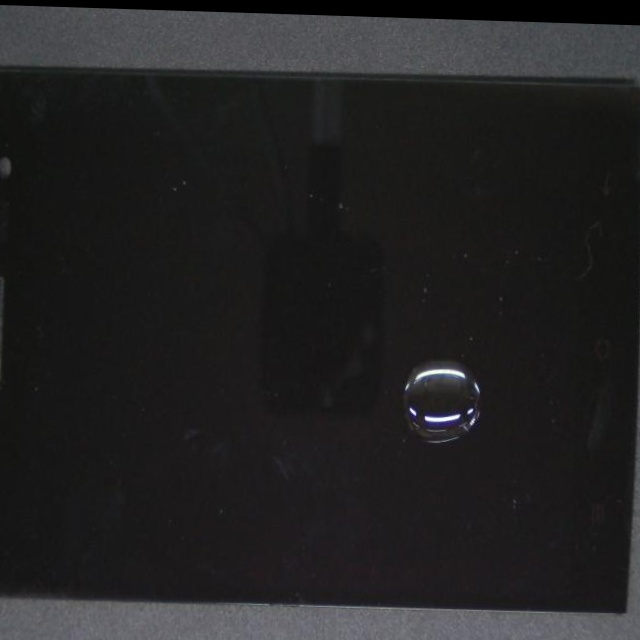oil: (207, 230, 640, 597)
